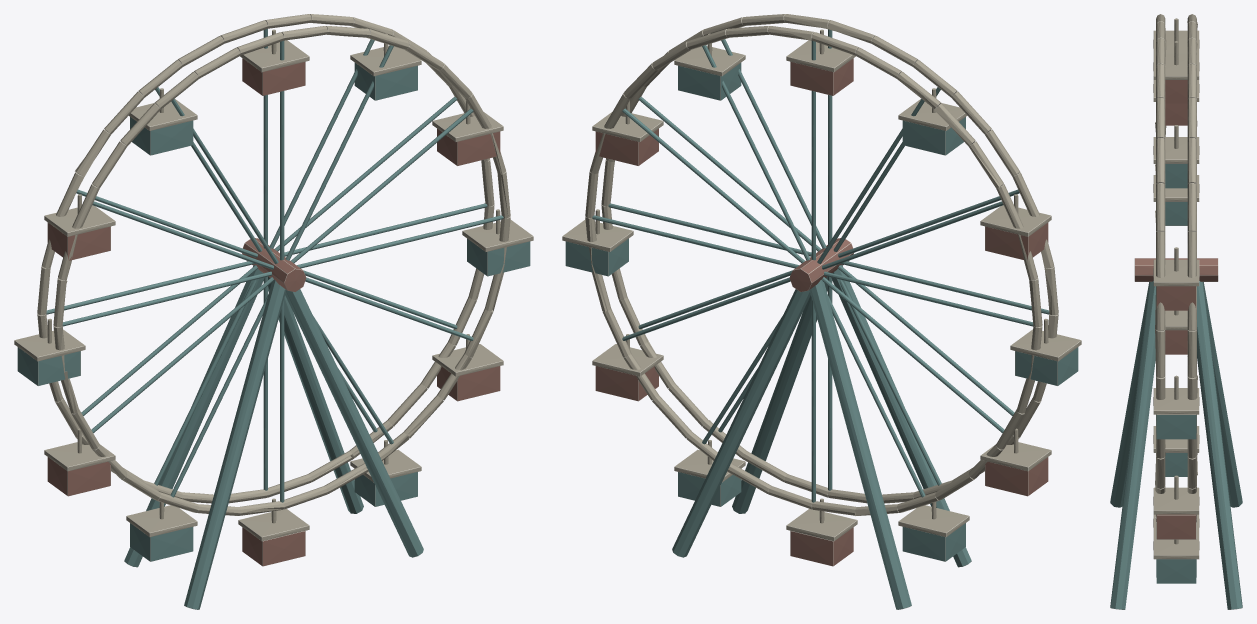
Rendered from prop_ferris_wheel.glb.
3 renders of one model, left to right at view 1: azimuth 30°, elevation 25°; view 2: azimuth 150°, elevation 25°; view 3: azimuth 270°, elevation 25°, orthographic. The views are drawn at different scales.
Parts seen in each view (by area): view 1: scenery_teal, scenery_cream, scenery_coral; view 2: scenery_teal, scenery_cream, scenery_coral; view 3: scenery_cream, scenery_teal, scenery_coral.
Part boxes in pixels (x1=…): scenery_teal: x1=17, y1=29, x2=530, y2=609; scenery_cream: x1=14, y1=14, x2=533, y2=541; scenery_coral: x1=47, y1=58, x2=500, y2=566; scenery_teal: x1=565, y1=29, x2=1078, y2=609; scenery_cream: x1=562, y1=14, x2=1081, y2=541; scenery_coral: x1=595, y1=58, x2=1048, y2=566; scenery_cream: x1=1153, y1=14, x2=1199, y2=559; scenery_teal: x1=1110, y1=164, x2=1242, y2=609; scenery_coral: x1=1134, y1=80, x2=1218, y2=539.
Bounding box in the file's own units: 26.6 × 27.37 × 6.32.
